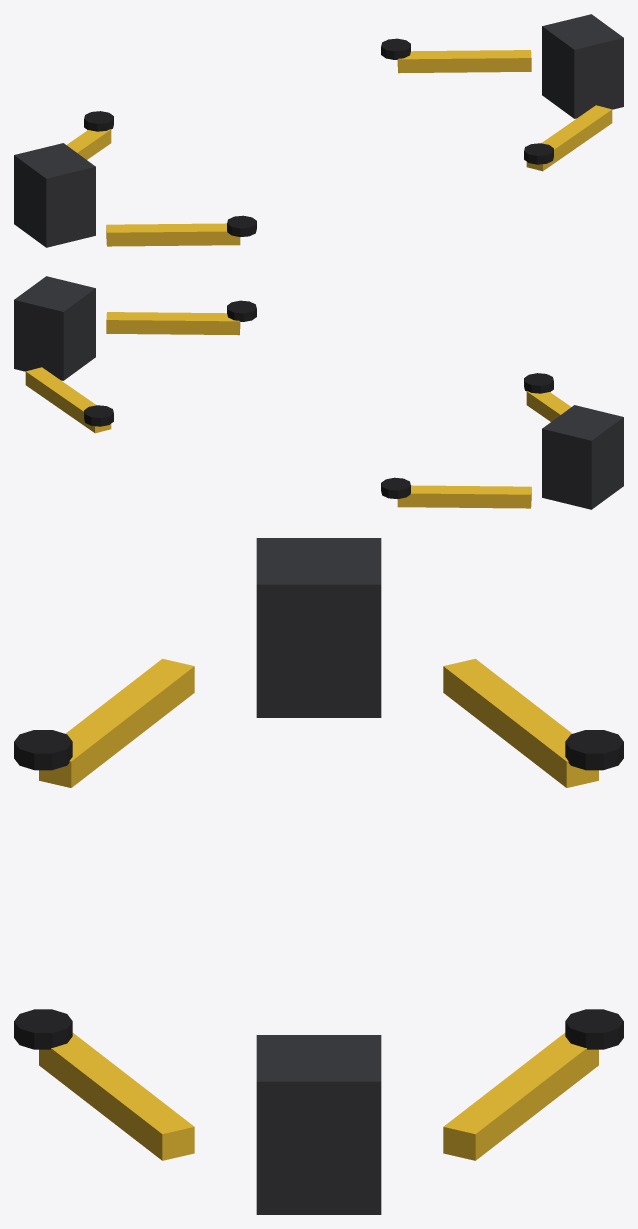
File: garage_lift_arms.glb
3 renders of one model, top to bottom at view 1: azimuth 30°, elevation 25°; view 2: azimuth 150°, elevation 25°; view 3: azimuth 270°, elevation 25°, orthographic. The views are drawn at different scales.
Visible parts, largest first — view 1: carriage_lift_dark, arm_lift_yellow, pad_lift_pad; view 2: carriage_lift_dark, arm_lift_yellow, pad_lift_pad; view 3: carriage_lift_dark, arm_lift_yellow, pad_lift_pad.
Part boxes in pixels (x1=…): carriage_lift_dark: x1=14, y1=14, x2=623, y2=247; arm_lift_yellow: x1=66, y1=50, x2=612, y2=246; pad_lift_pad: x1=84, y1=38, x2=553, y2=236; carriage_lift_dark: x1=14, y1=276, x2=623, y2=509; arm_lift_yellow: x1=25, y1=312, x2=571, y2=508; pad_lift_pad: x1=84, y1=300, x2=553, y2=498; carriage_lift_dark: x1=256, y1=538, x2=381, y2=1214; arm_lift_yellow: x1=39, y1=658, x2=598, y2=1160; pad_lift_pad: x1=14, y1=730, x2=623, y2=1049.
Bounding box in the file's own units: 3.5 × 0.4 × 1.66.
